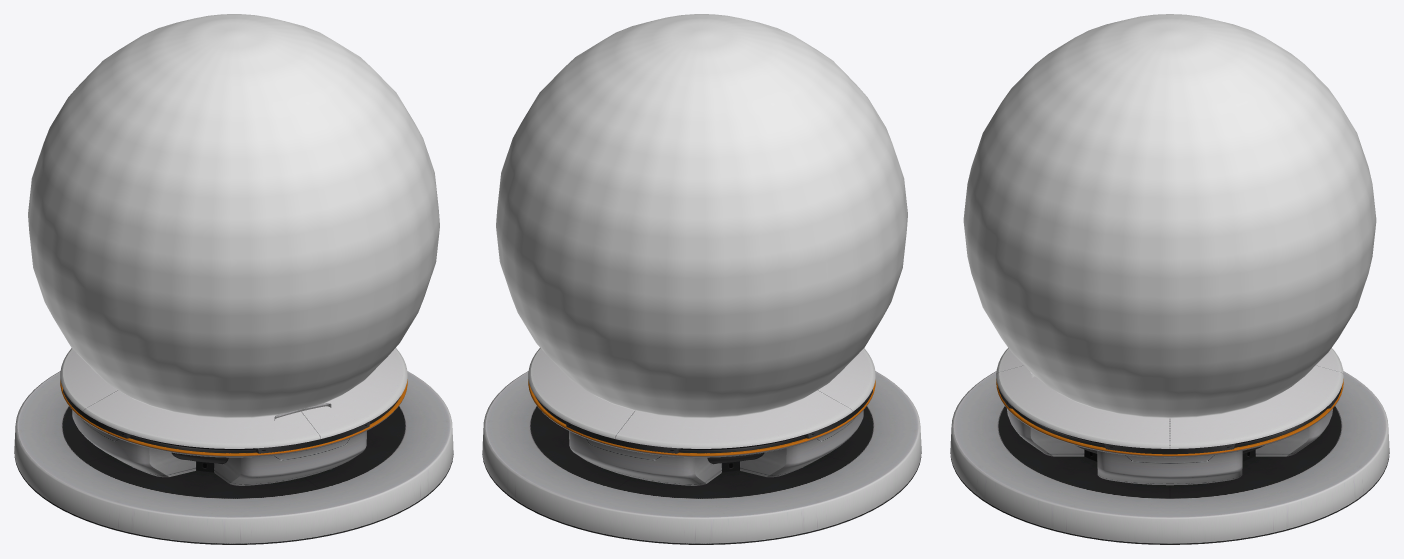
The model's file is SphericalAquariumBlender3.fbx.
The picture shows the model from 3 angles, left to right: view 1: azimuth 30°, elevation 25°; view 2: azimuth 150°, elevation 25°; view 3: azimuth 270°, elevation 25°; orthographic projection.
Parts seen in each view (by area): view 1: AquariumSphere, Bio_Reactor_mesh_geo; view 2: AquariumSphere, Bio_Reactor_mesh_geo; view 3: AquariumSphere, Bio_Reactor_mesh_geo.
Boxes of the visible parts, x1,y1,x2,y2 form: AquariumSphere: (28,14,439,418); Bio_Reactor_mesh_geo: (14,348,453,544); AquariumSphere: (496,14,907,418); Bio_Reactor_mesh_geo: (482,348,921,544); AquariumSphere: (963,14,1376,418); Bio_Reactor_mesh_geo: (950,348,1389,544).
Size of the model in its own units: 31912 by 33583 by 31912.
